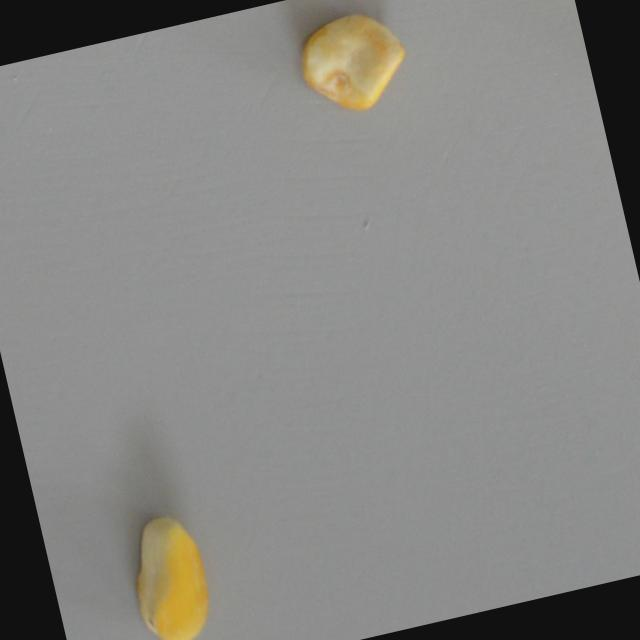dañado: (284, 0, 422, 127), (114, 504, 224, 640)
pelicula: (545, 0, 578, 24)
